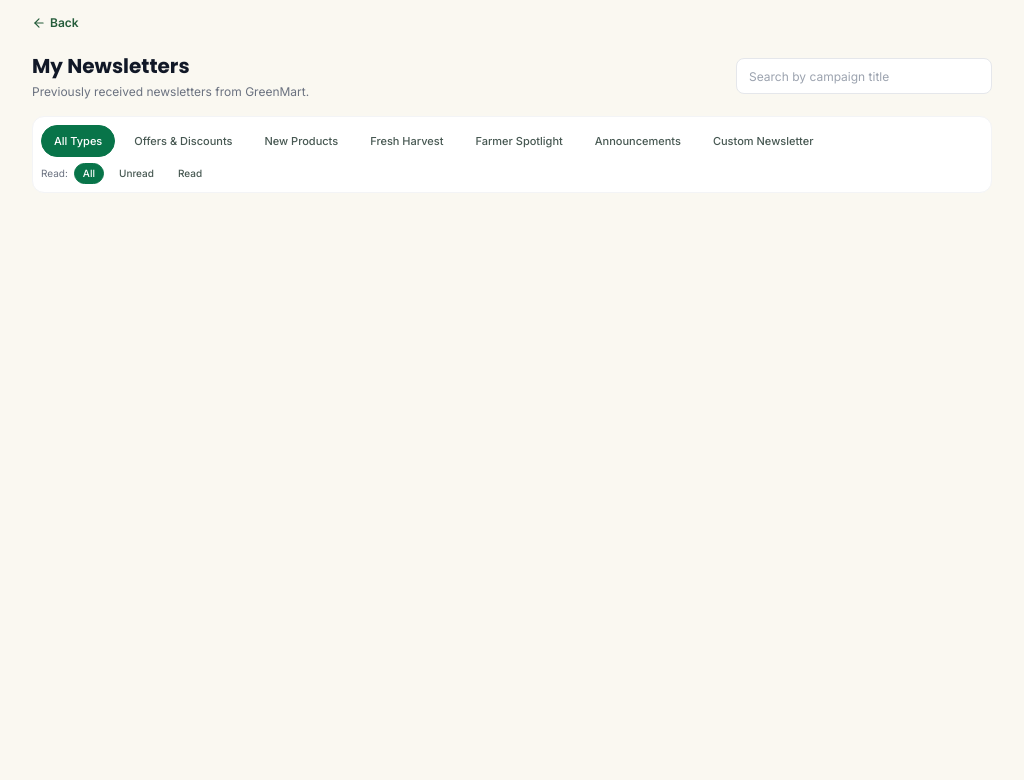
Test case: My Newsletters campaign title search › ignores stale search responses and keeps the search input mounted during loading
The image size is (1024, 780).
Type "Old" into the search field labelled "Search by campaign title" at (864, 76), box [736,58,992,94]
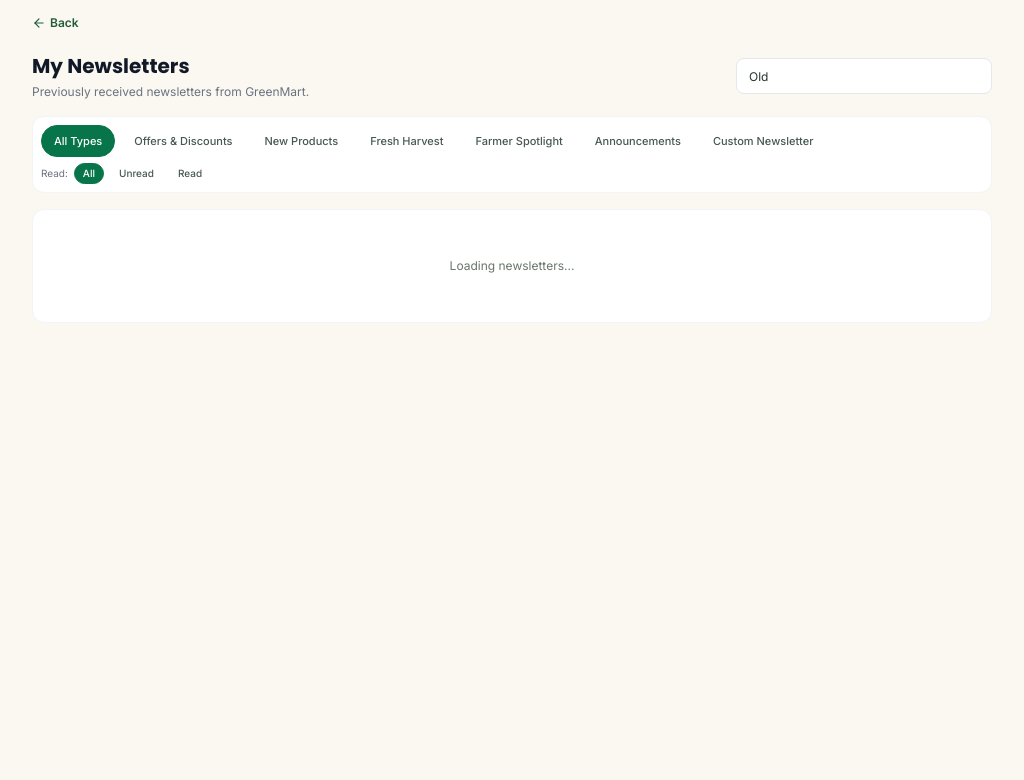
Replace the text in the search field named "Search by campaign title" with "New" at (864, 76), box [736,58,992,94]
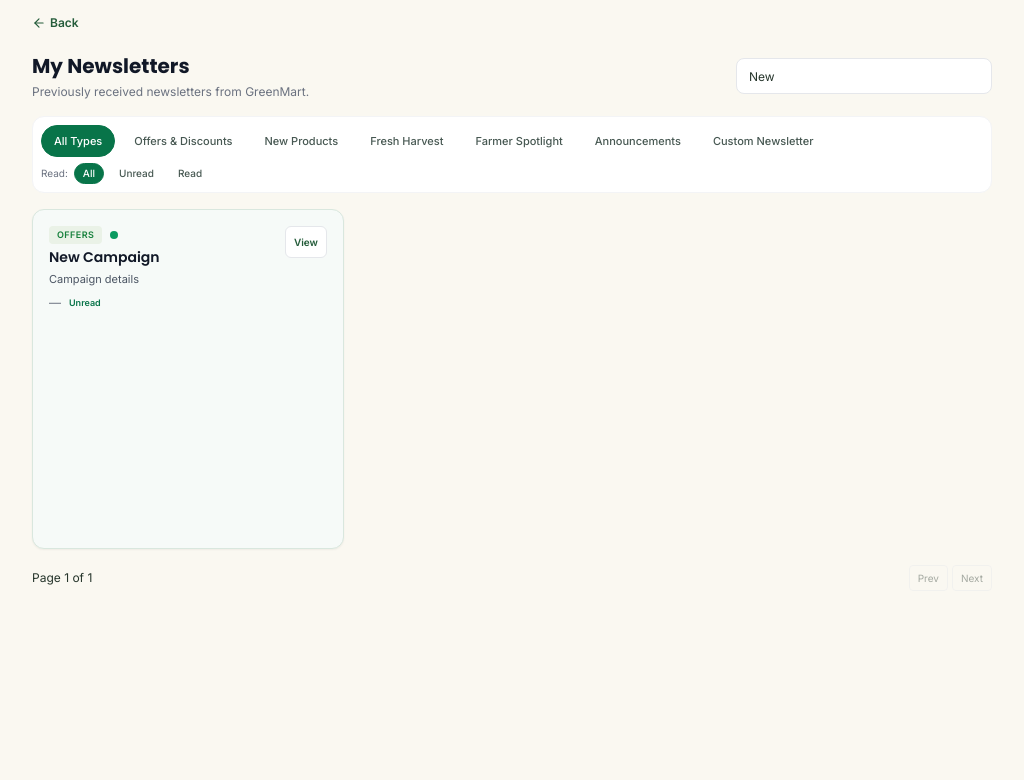
Check: the heading "New Campaign" is shown, box [49,246,160,266]
